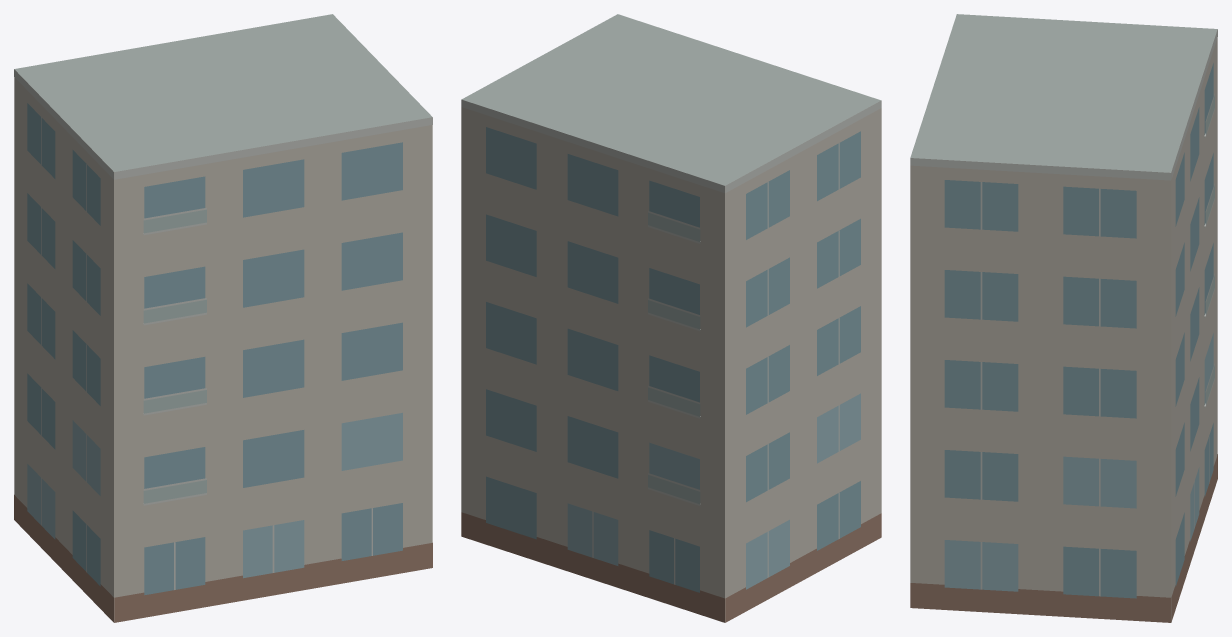
Rendered from survey-upis-32973425.glb.
3 views of the same model, side by side, from view 1: azimuth 30°, elevation 25°; view 2: azimuth 150°, elevation 25°; view 3: azimuth 270°, elevation 25° (orthographic). The views are drawn at different scales.
Visible parts, largest first — view 1: survey-upis-32973425.tmp; view 2: survey-upis-32973425.tmp; view 3: survey-upis-32973425.tmp.
Boxes of the visible parts, box(x1,y1,x2,y2) form: survey-upis-32973425.tmp: box(14, 14, 432, 622); survey-upis-32973425.tmp: box(461, 14, 881, 622); survey-upis-32973425.tmp: box(910, 14, 1217, 622).
Bounding box in the file's own units: 10.84 × 14.3 × 8.87.
